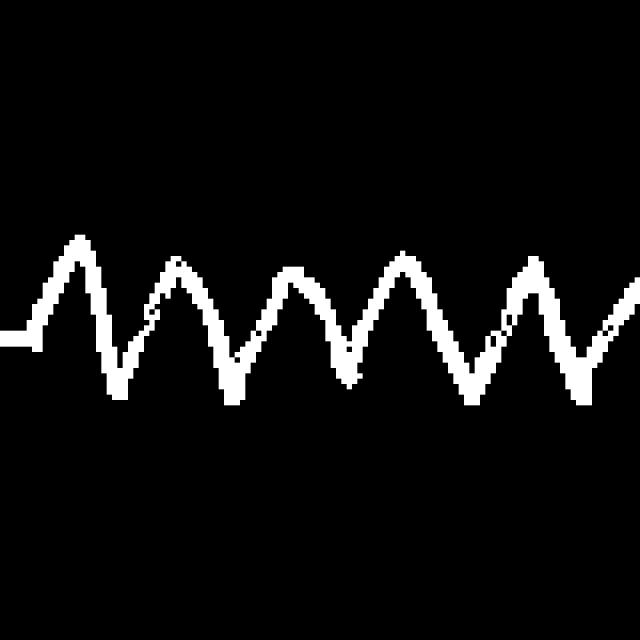resistor: (21, 218, 640, 426)
